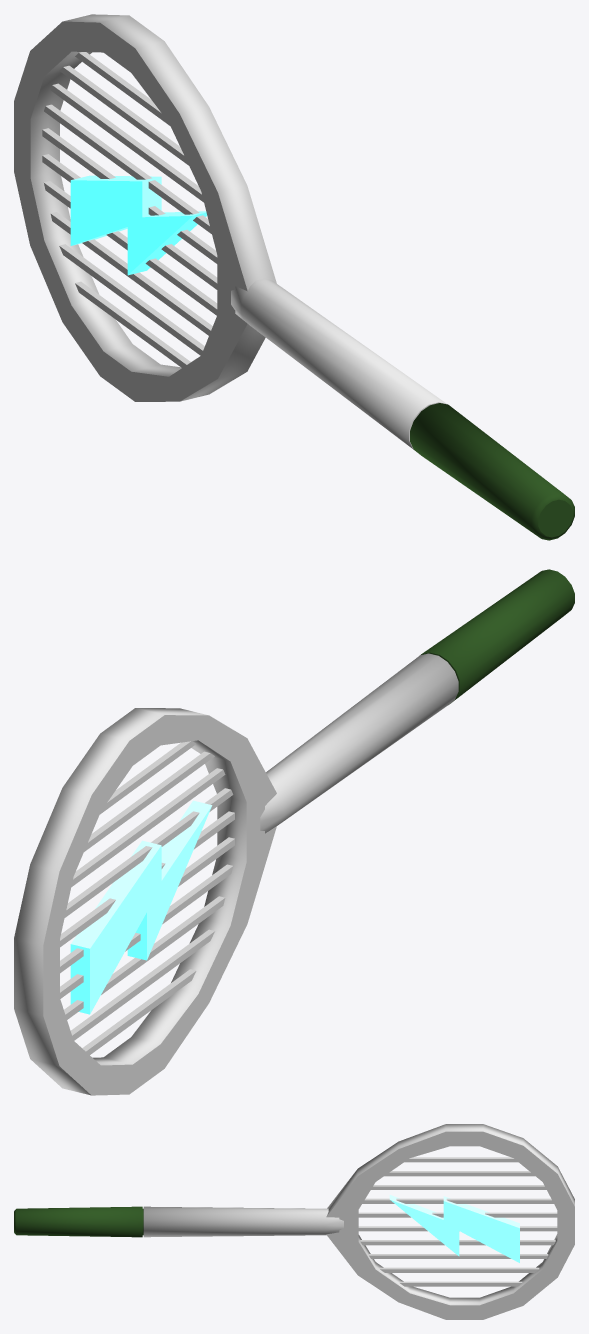
The model's file is Weapon_Swatter.fbx.
The picture shows the model from 3 angles, top to bottom: view 1: azimuth 30°, elevation 25°; view 2: azimuth 150°, elevation 25°; view 3: azimuth 270°, elevation 25°; orthographic projection. The views are drawn at different scales.
Visible parts, largest first — view 1: SwatterBody, Wire, Lightning; view 2: SwatterBody, Wire, Lightning; view 3: SwatterBody, Wire, Lightning.
Part boxes in pixels (box(x1,y1,x2,y2)): SwatterBody: box(14, 14, 574, 540); Wire: box(42, 52, 217, 367); Lightning: box(70, 175, 207, 275); SwatterBody: box(14, 569, 574, 1095); Wire: box(60, 741, 234, 1054); Lightning: box(70, 800, 212, 1014); SwatterBody: box(14, 1124, 574, 1319); Wire: box(358, 1157, 557, 1286); Lightning: box(389, 1195, 519, 1262).
Bounding box in the file's own units: 27.81 × 189 × 510.
